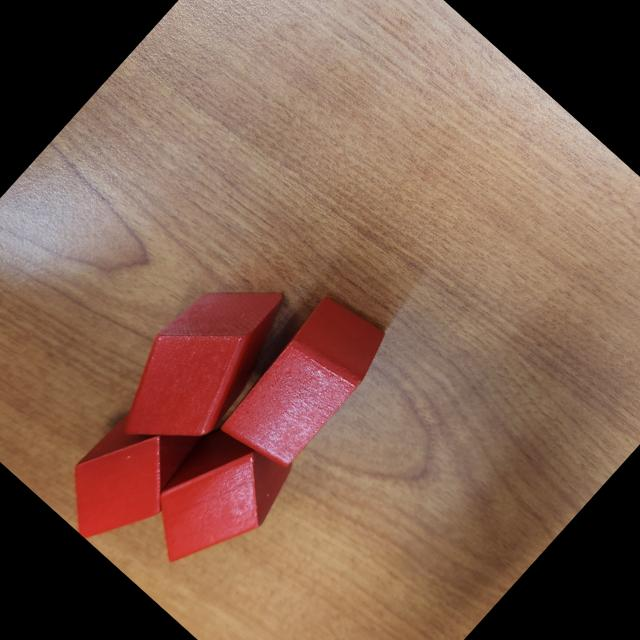red: (90, 248, 312, 478), (210, 284, 398, 480), (122, 406, 308, 596), (46, 394, 209, 561)
